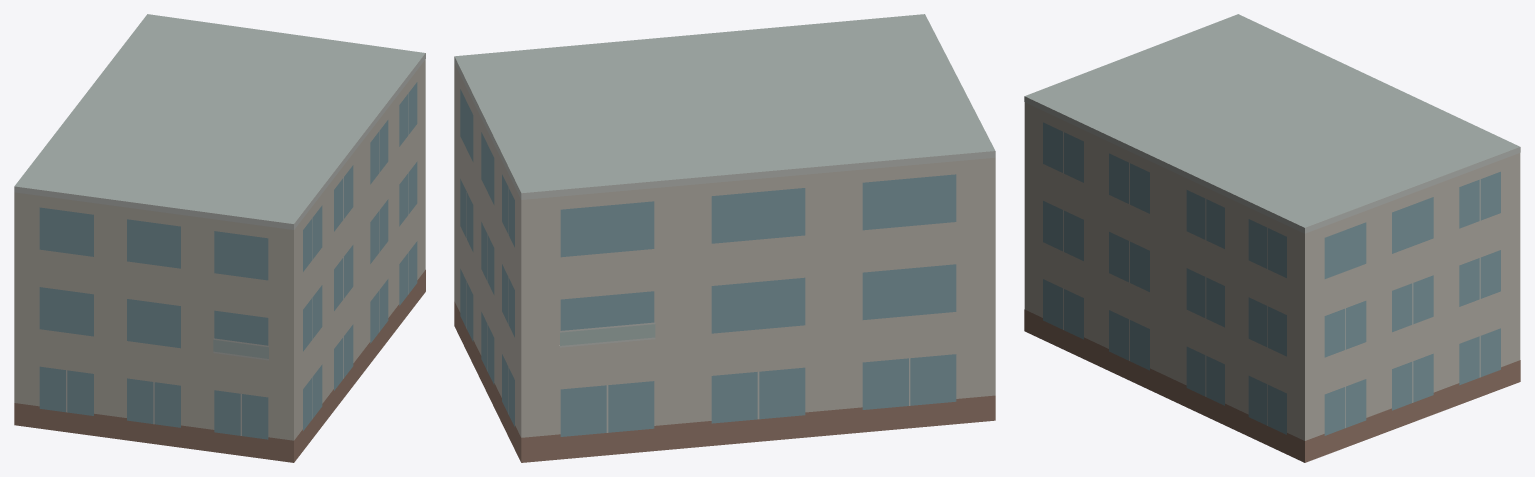
Rendered from survey-upis-33036660.glb.
The picture shows the model from 3 angles, left to right: view 1: azimuth 30°, elevation 25°; view 2: azimuth 150°, elevation 25°; view 3: azimuth 270°, elevation 25°; orthographic projection. The views are drawn at different scales.
Visible parts, largest first — view 1: survey-upis-33036660.tmp; view 2: survey-upis-33036660.tmp; view 3: survey-upis-33036660.tmp.
Part boxes in pixels (x1,y1,x2,y2): survey-upis-33036660.tmp: (14,14,425,462); survey-upis-33036660.tmp: (454,14,995,462); survey-upis-33036660.tmp: (1024,14,1520,462).
Bounding box in the file's own units: 19.14 × 9.8 × 18.75.
